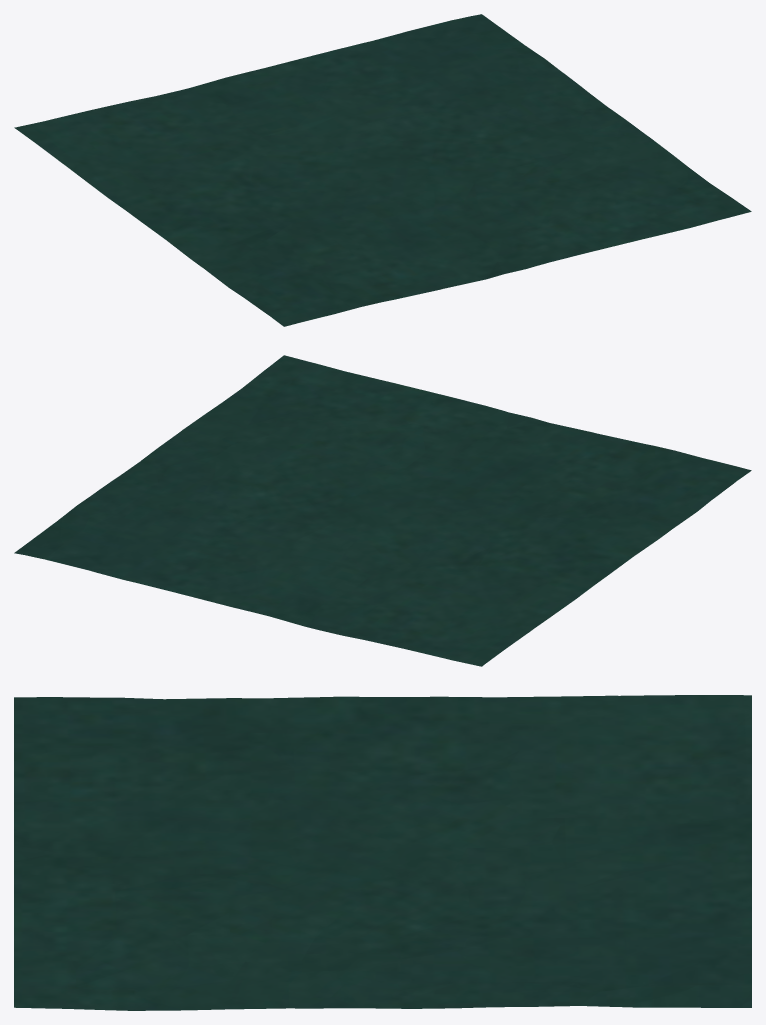
The picture shows the model from 3 angles, top to bottom: view 1: azimuth 30°, elevation 25°; view 2: azimuth 150°, elevation 25°; view 3: azimuth 270°, elevation 25°; orthographic projection. The views are drawn at different scales.
Size of the model in its own units: 52.22 by 0.5551 by 52.22.
Materials: 2 (2 with a texture image).
